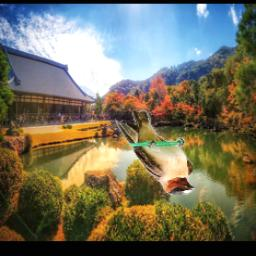Swallow: (115, 109, 196, 195)
